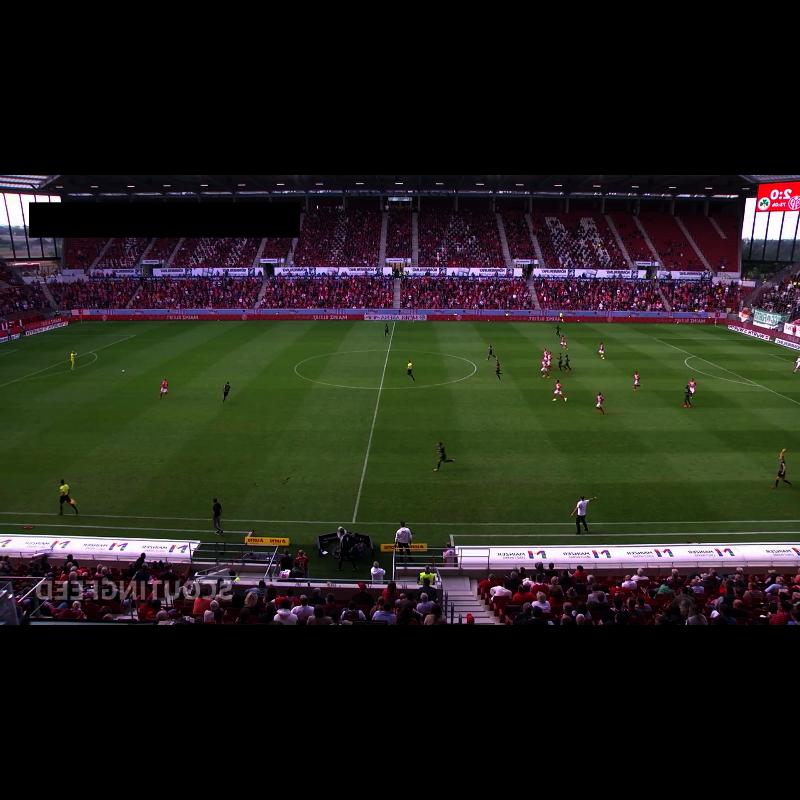cross_recipient_zone: (655, 338, 800, 404)
crossing_player_zone: (565, 325, 758, 339), (34, 322, 223, 335), (751, 430, 800, 467)
pitch: (0, 322, 800, 524)
